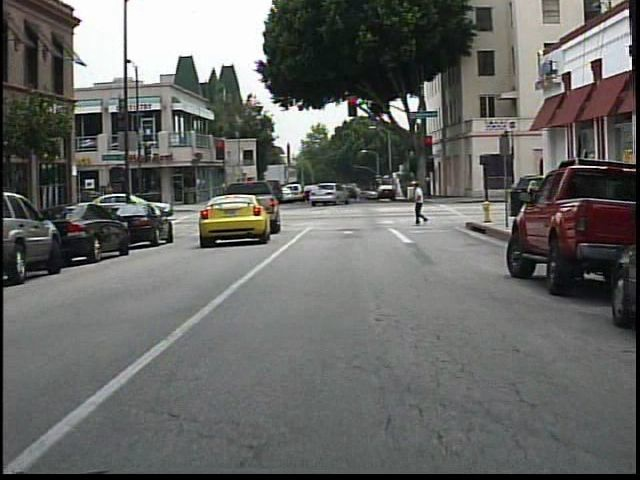person: (408, 180, 434, 228), (525, 173, 547, 223)
